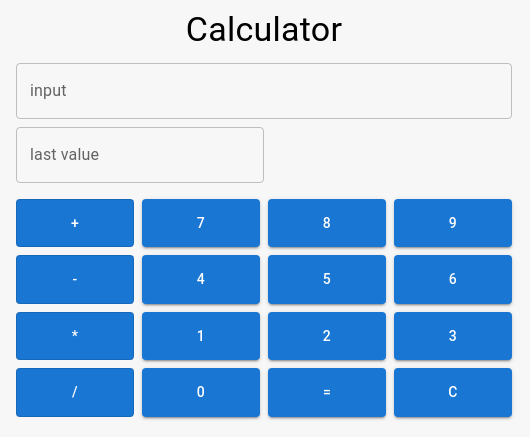
Test: App Component › performs addition
Note: Input "3"
Step 1. Click the button "3" → (453, 336), box [394,312,512,360]
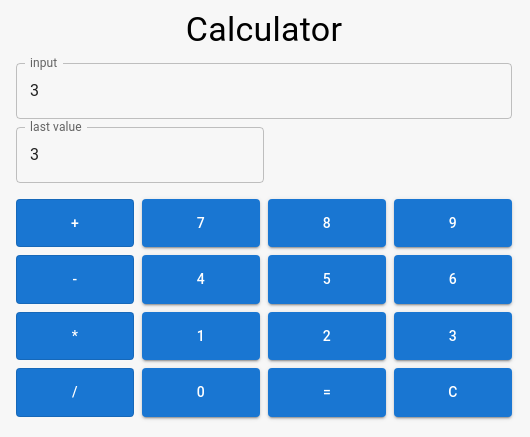
Note: Press operator + (select by accessible name "add")
Step 2. Click the button named "add" → (75, 223), box [16,199,134,247]
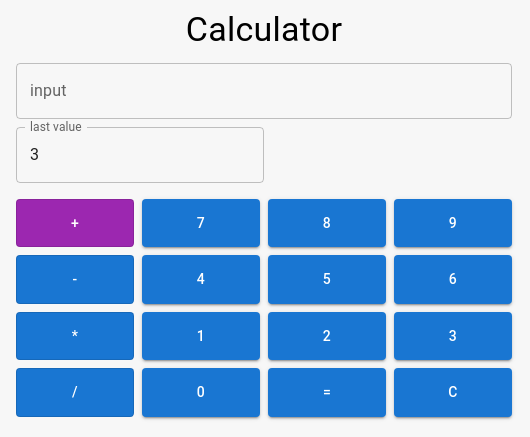
Note: Input "4"
Step 3. Click the button "4" → (201, 280), box [142,255,260,304]
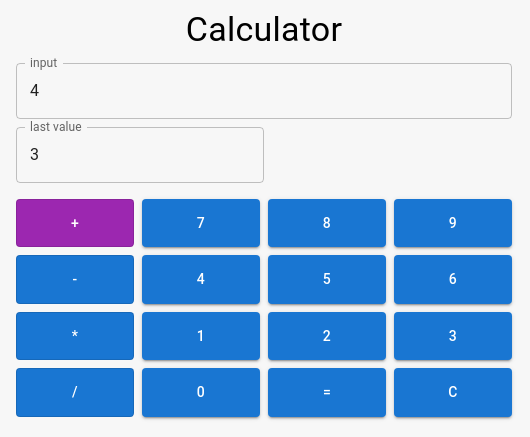
Step 4. Click the button "=" → (327, 393), box [268,368,386,417]
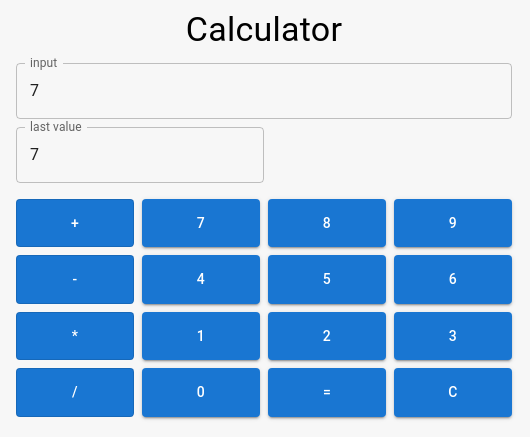
expect the field labelled "input" holds "7": met, box [16,63,512,119]
